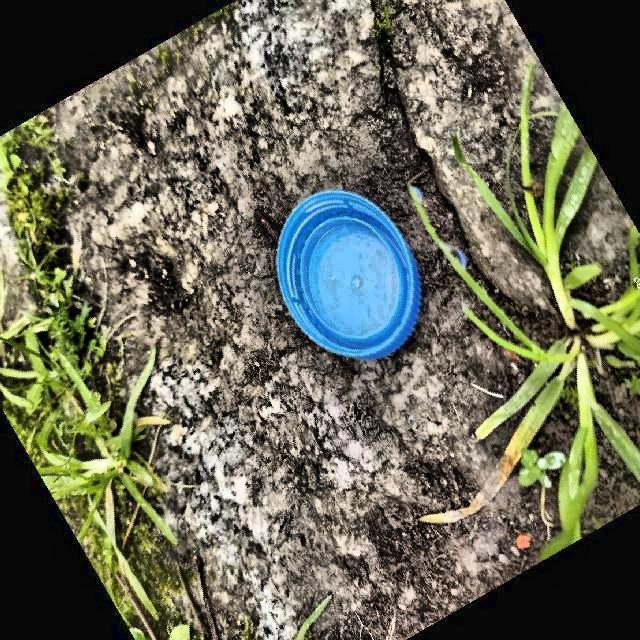plastic: (276, 190, 421, 359)
